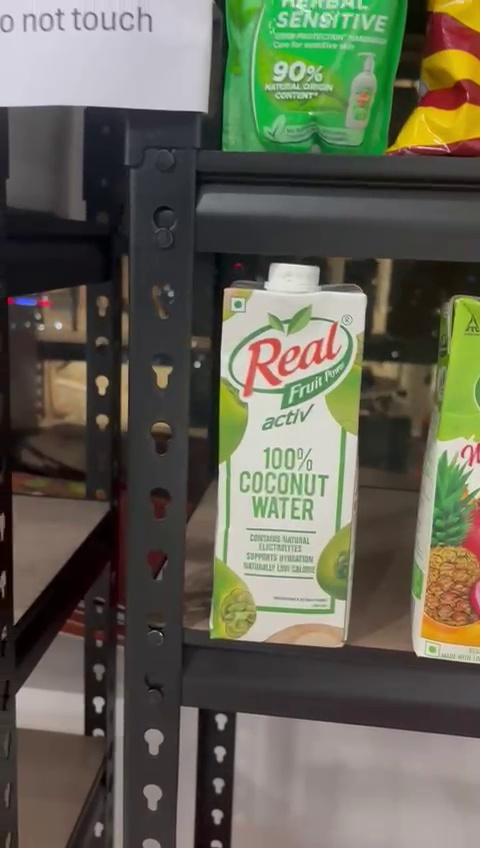Coconut water: (218, 260, 366, 648)
